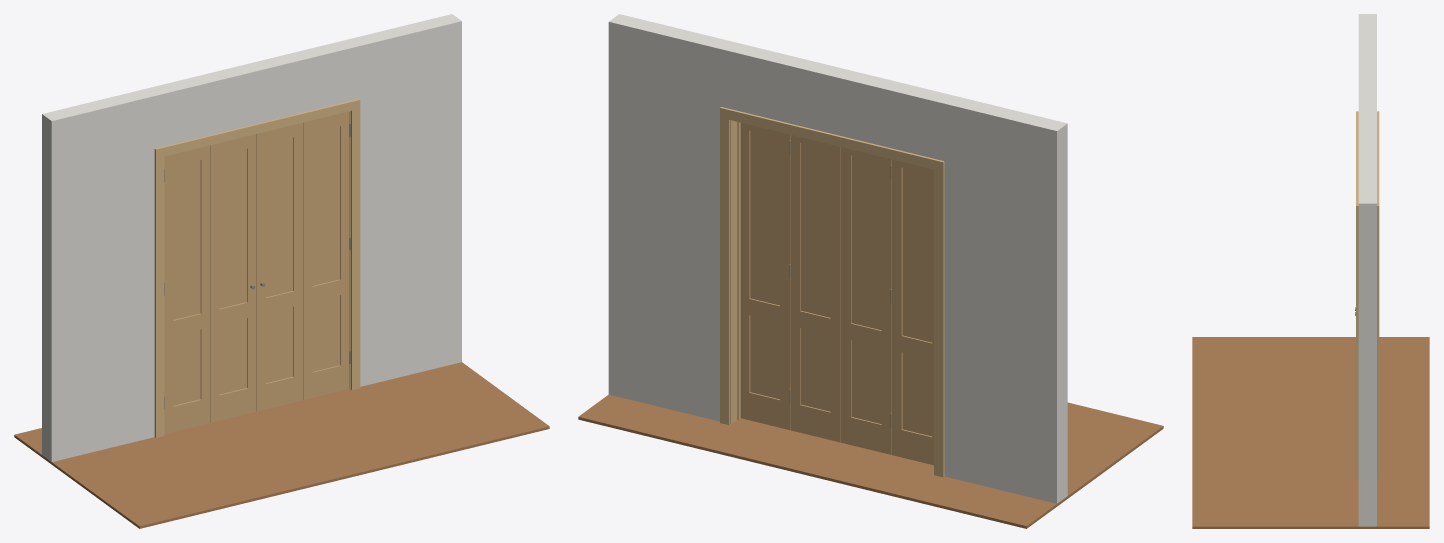
File: folding-doors-turnpike-lane.glb
3 views of the same model, side by side, from view 1: azimuth 30°, elevation 25°; view 2: azimuth 150°, elevation 25°; view 3: azimuth 270°, elevation 25° (orthographic). The views are drawn at different scales.
Visible parts, largest first — view 1: Room: Wall, left, Room: Floor, Room: Wall, right, Room: Wall, over the opening, Doors: Door 3 (folds on door 4), Doors: Door 1 (hung on the frame), Doors: Door 4 (hung on the frame), Doors: Door 2 (folds on door 1), Doors: Door 1 panel, upper, Doors: Door 2 panel, upper, Doors: Door 3 panel, upper, Doors: Door 4 panel, upper (+7 smaller); view 2: Room: Wall, left, Room: Wall, right, Room: Floor, Room: Wall, over the opening, Doors: Door 3 (folds on door 4), Doors: Door 2 (folds on door 1), Doors: Door 4 (hung on the frame), Doors: Door 1 (hung on the frame), Doors: Door 2 panel, upper, Doors: Door 1 panel, upper, Doors: Door 3 panel, upper, Doors: Door 4 panel, upper (+9 smaller); view 3: Room: Floor, Room: Wall, right, Room: Wall, over the opening, Room: Wall, left, Architrave, room side: Right, Architrave, other side: Right.
Boxes of the visible parts, <box> form: Room: Wall, left: <box>42,88,159,461</box>; Room: Floor: <box>14,362,549,528</box>; Room: Wall, right: <box>345,14,461,386</box>; Room: Wall, over the opening: <box>150,40,354,147</box>; Doors: Door 3 (folds on door 4): <box>256,122,303,411</box>; Doors: Door 1 (hung on the frame): <box>164,145,210,433</box>; Doors: Door 4 (hung on the frame): <box>303,111,349,399</box>; Doors: Door 2 (folds on door 1): <box>210,134,256,422</box>; Doors: Door 1 panel, upper: <box>173,160,200,319</box>; Doors: Door 2 panel, upper: <box>219,149,246,308</box>; Doors: Door 3 panel, upper: <box>266,137,293,297</box>; Doors: Door 4 panel, upper: <box>312,126,339,285</box>; Room: Wall, left: <box>939,94,1067,503</box>; Room: Wall, right: <box>608,14,736,421</box>; Room: Floor: <box>578,394,1163,528</box>; Room: Wall, over the opening: <box>726,42,949,159</box>; Doors: Door 3 (folds on door 4): <box>790,134,840,442</box>; Doors: Door 2 (folds on door 1): <box>841,147,891,454</box>; Doors: Door 4 (hung on the frame): <box>740,122,790,429</box>; Doors: Door 1 (hung on the frame): <box>892,159,933,465</box>; Doors: Door 2 panel, upper: <box>851,155,881,330</box>; Doors: Door 1 panel, upper: <box>902,168,932,342</box>; Doors: Door 3 panel, upper: <box>801,143,830,317</box>; Doors: Door 4 panel, upper: <box>750,130,779,305</box>; Room: Floor: <box>1192,337,1429,528</box>; Room: Wall, right: <box>1358,154,1376,526</box>; Room: Wall, over the opening: <box>1358,63,1376,153</box>; Room: Wall, left: <box>1358,14,1376,63</box>; Architrave, room side: Right: <box>1356,206,1358,478</box>; Architrave, other side: Right: <box>1377,206,1379,478</box>.
Size of the model in its own units: 3.4 by 2.72 by 1.8.
